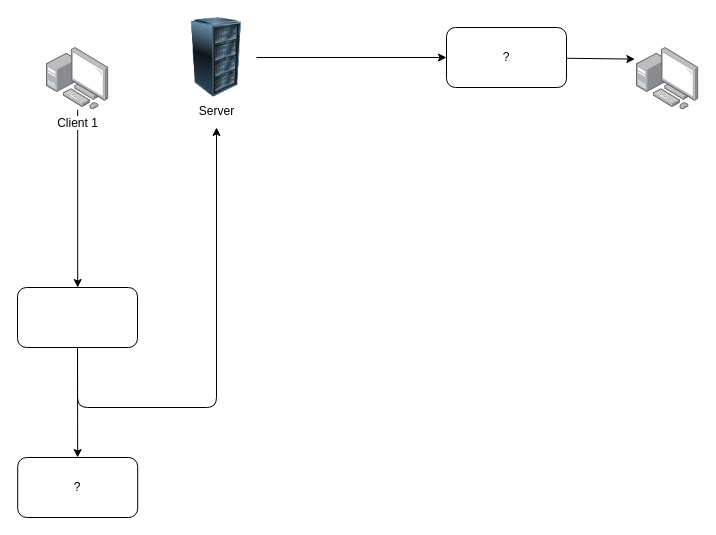
This 716x535 diagram has some shape labels left out. The shapes that lost their labels are listed below. From the top down, each one's centre as x and y in pixels, then its label:
At point 667,78: "Client 2".
At point 77,317: "Pose Search".
